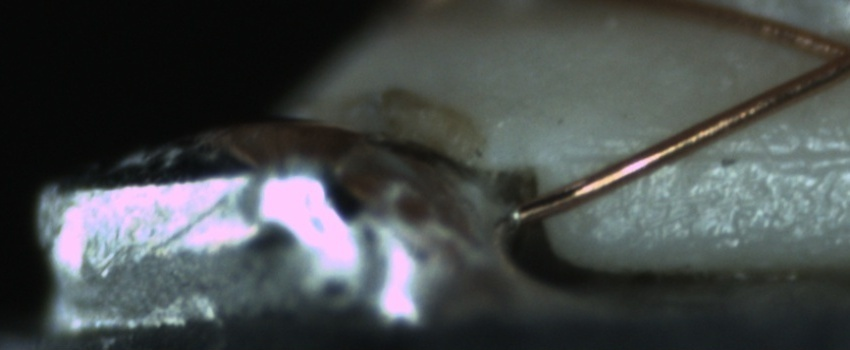CL: (797, 24, 850, 88)
DL: (610, 117, 849, 184)
